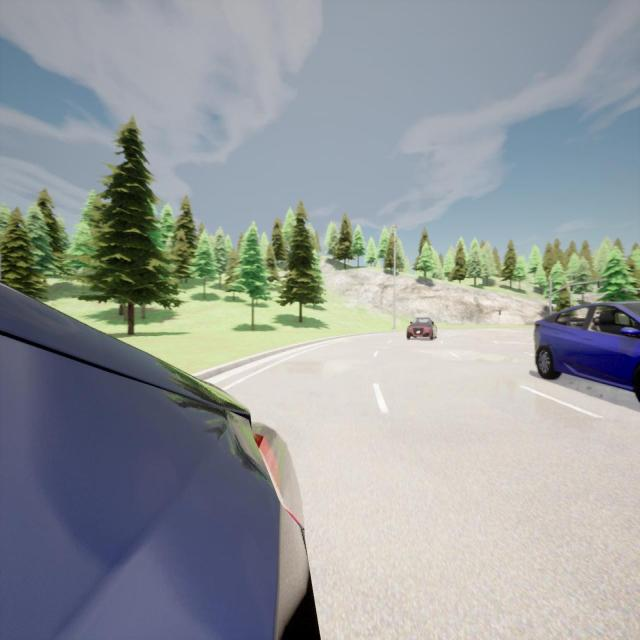Vehicle: (0, 287, 320, 640), (534, 301, 640, 400), (405, 317, 439, 341)
